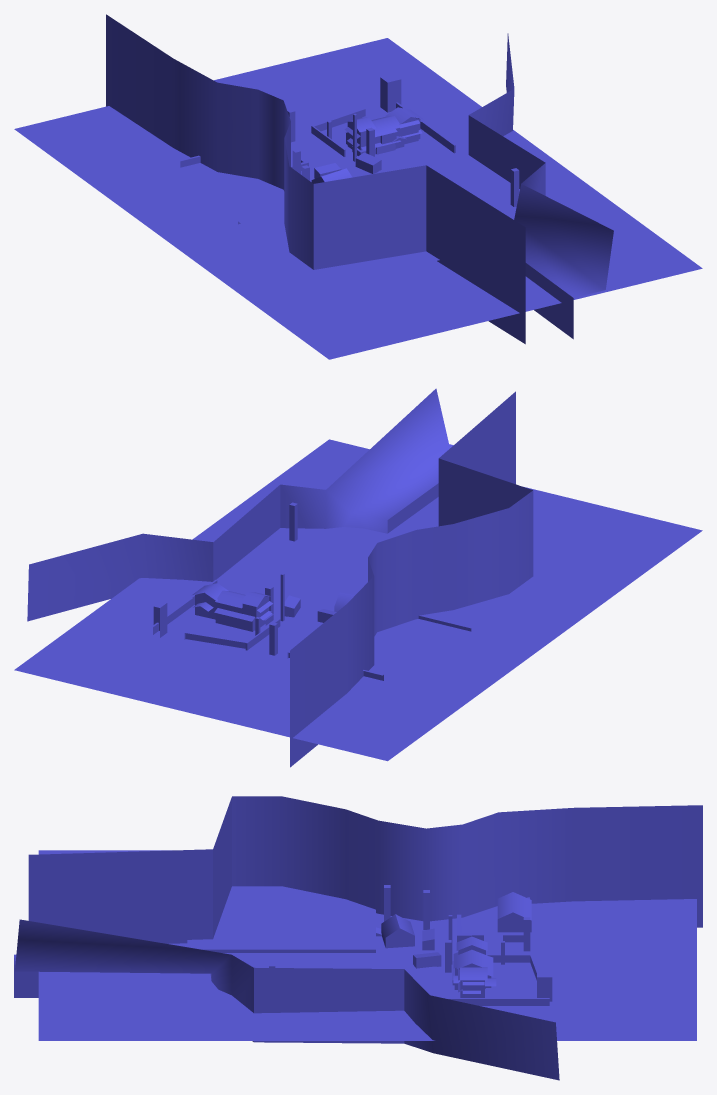
The model's file is collision_tama.x.obj.
3 renders of one model, top to bottom at view 1: azimuth 30°, elevation 25°; view 2: azimuth 150°, elevation 25°; view 3: azimuth 270°, elevation 25°, orthographic. The views are drawn at different scales.
Size of the model in its own units: 13093 by 3558 by 17545.
